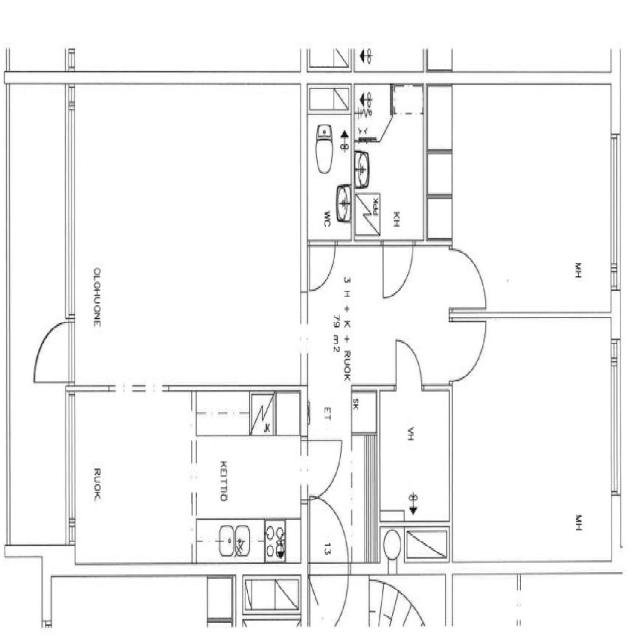door: (73, 84, 304, 391), (30, 315, 76, 387), (448, 240, 490, 314), (448, 313, 488, 384), (309, 564, 350, 631), (307, 495, 348, 561), (302, 438, 343, 502), (379, 236, 416, 304), (391, 332, 426, 394), (306, 239, 338, 296)
window: (59, 96, 82, 324), (605, 340, 625, 504), (62, 390, 80, 528)
zone: (87, 93, 301, 390), (450, 305, 619, 568), (440, 80, 617, 316), (70, 391, 194, 569), (194, 396, 306, 565), (353, 84, 426, 242), (377, 389, 452, 528), (309, 86, 352, 240), (452, 572, 519, 640), (309, 565, 350, 630)
